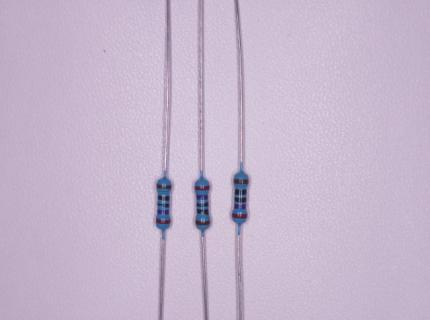Black band: (234, 197, 246, 203), (197, 209, 208, 215), (234, 190, 247, 195), (197, 202, 209, 207), (158, 195, 169, 200), (158, 203, 169, 208)
Brown band: (234, 178, 248, 184), (195, 220, 210, 225), (157, 184, 171, 189)
Red band: (232, 213, 247, 218), (156, 219, 170, 224), (195, 186, 209, 190)
Violet band: (157, 209, 169, 214), (234, 204, 246, 209), (197, 195, 208, 200)
